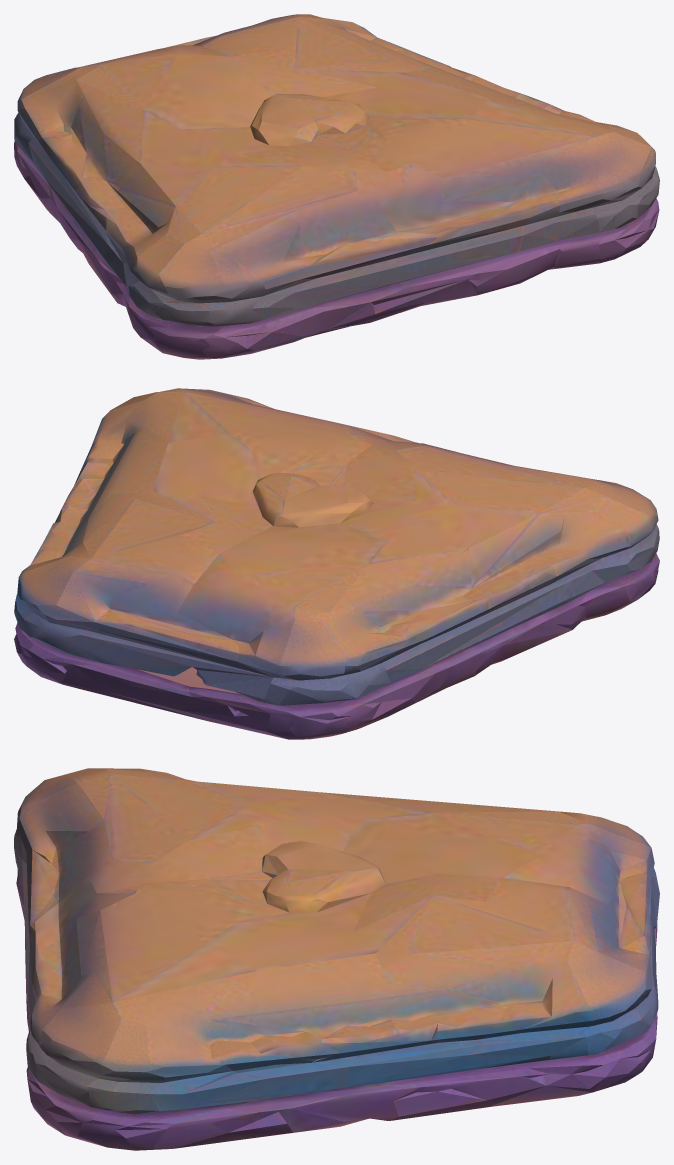
Rendered from pastryTriangle.bef10726.glb.
The picture shows the model from 3 angles, top to bottom: view 1: azimuth 30°, elevation 25°; view 2: azimuth 150°, elevation 25°; view 3: azimuth 270°, elevation 25°; orthographic projection. The views are drawn at different scales.
Visible parts, largest first — view 1: output_unwrapped; view 2: output_unwrapped; view 3: output_unwrapped.
Boxes of the visible parts, x1,y1,x2,y2 form: output_unwrapped: (14, 14, 659, 359); output_unwrapped: (14, 388, 659, 739); output_unwrapped: (14, 768, 659, 1150).
Bounding box in the file's own units: 1.9 × 0.4165 × 1.72.
Materials: 1 (1 with a texture image).
